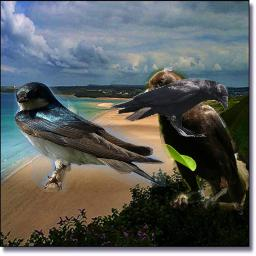Crow: (137, 67, 246, 215), (108, 78, 228, 137)
Swallow: (14, 82, 166, 192)
